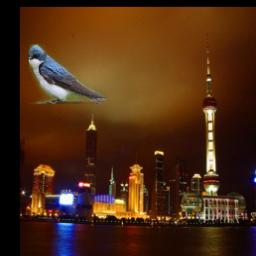Swallow: (29, 44, 106, 104)
